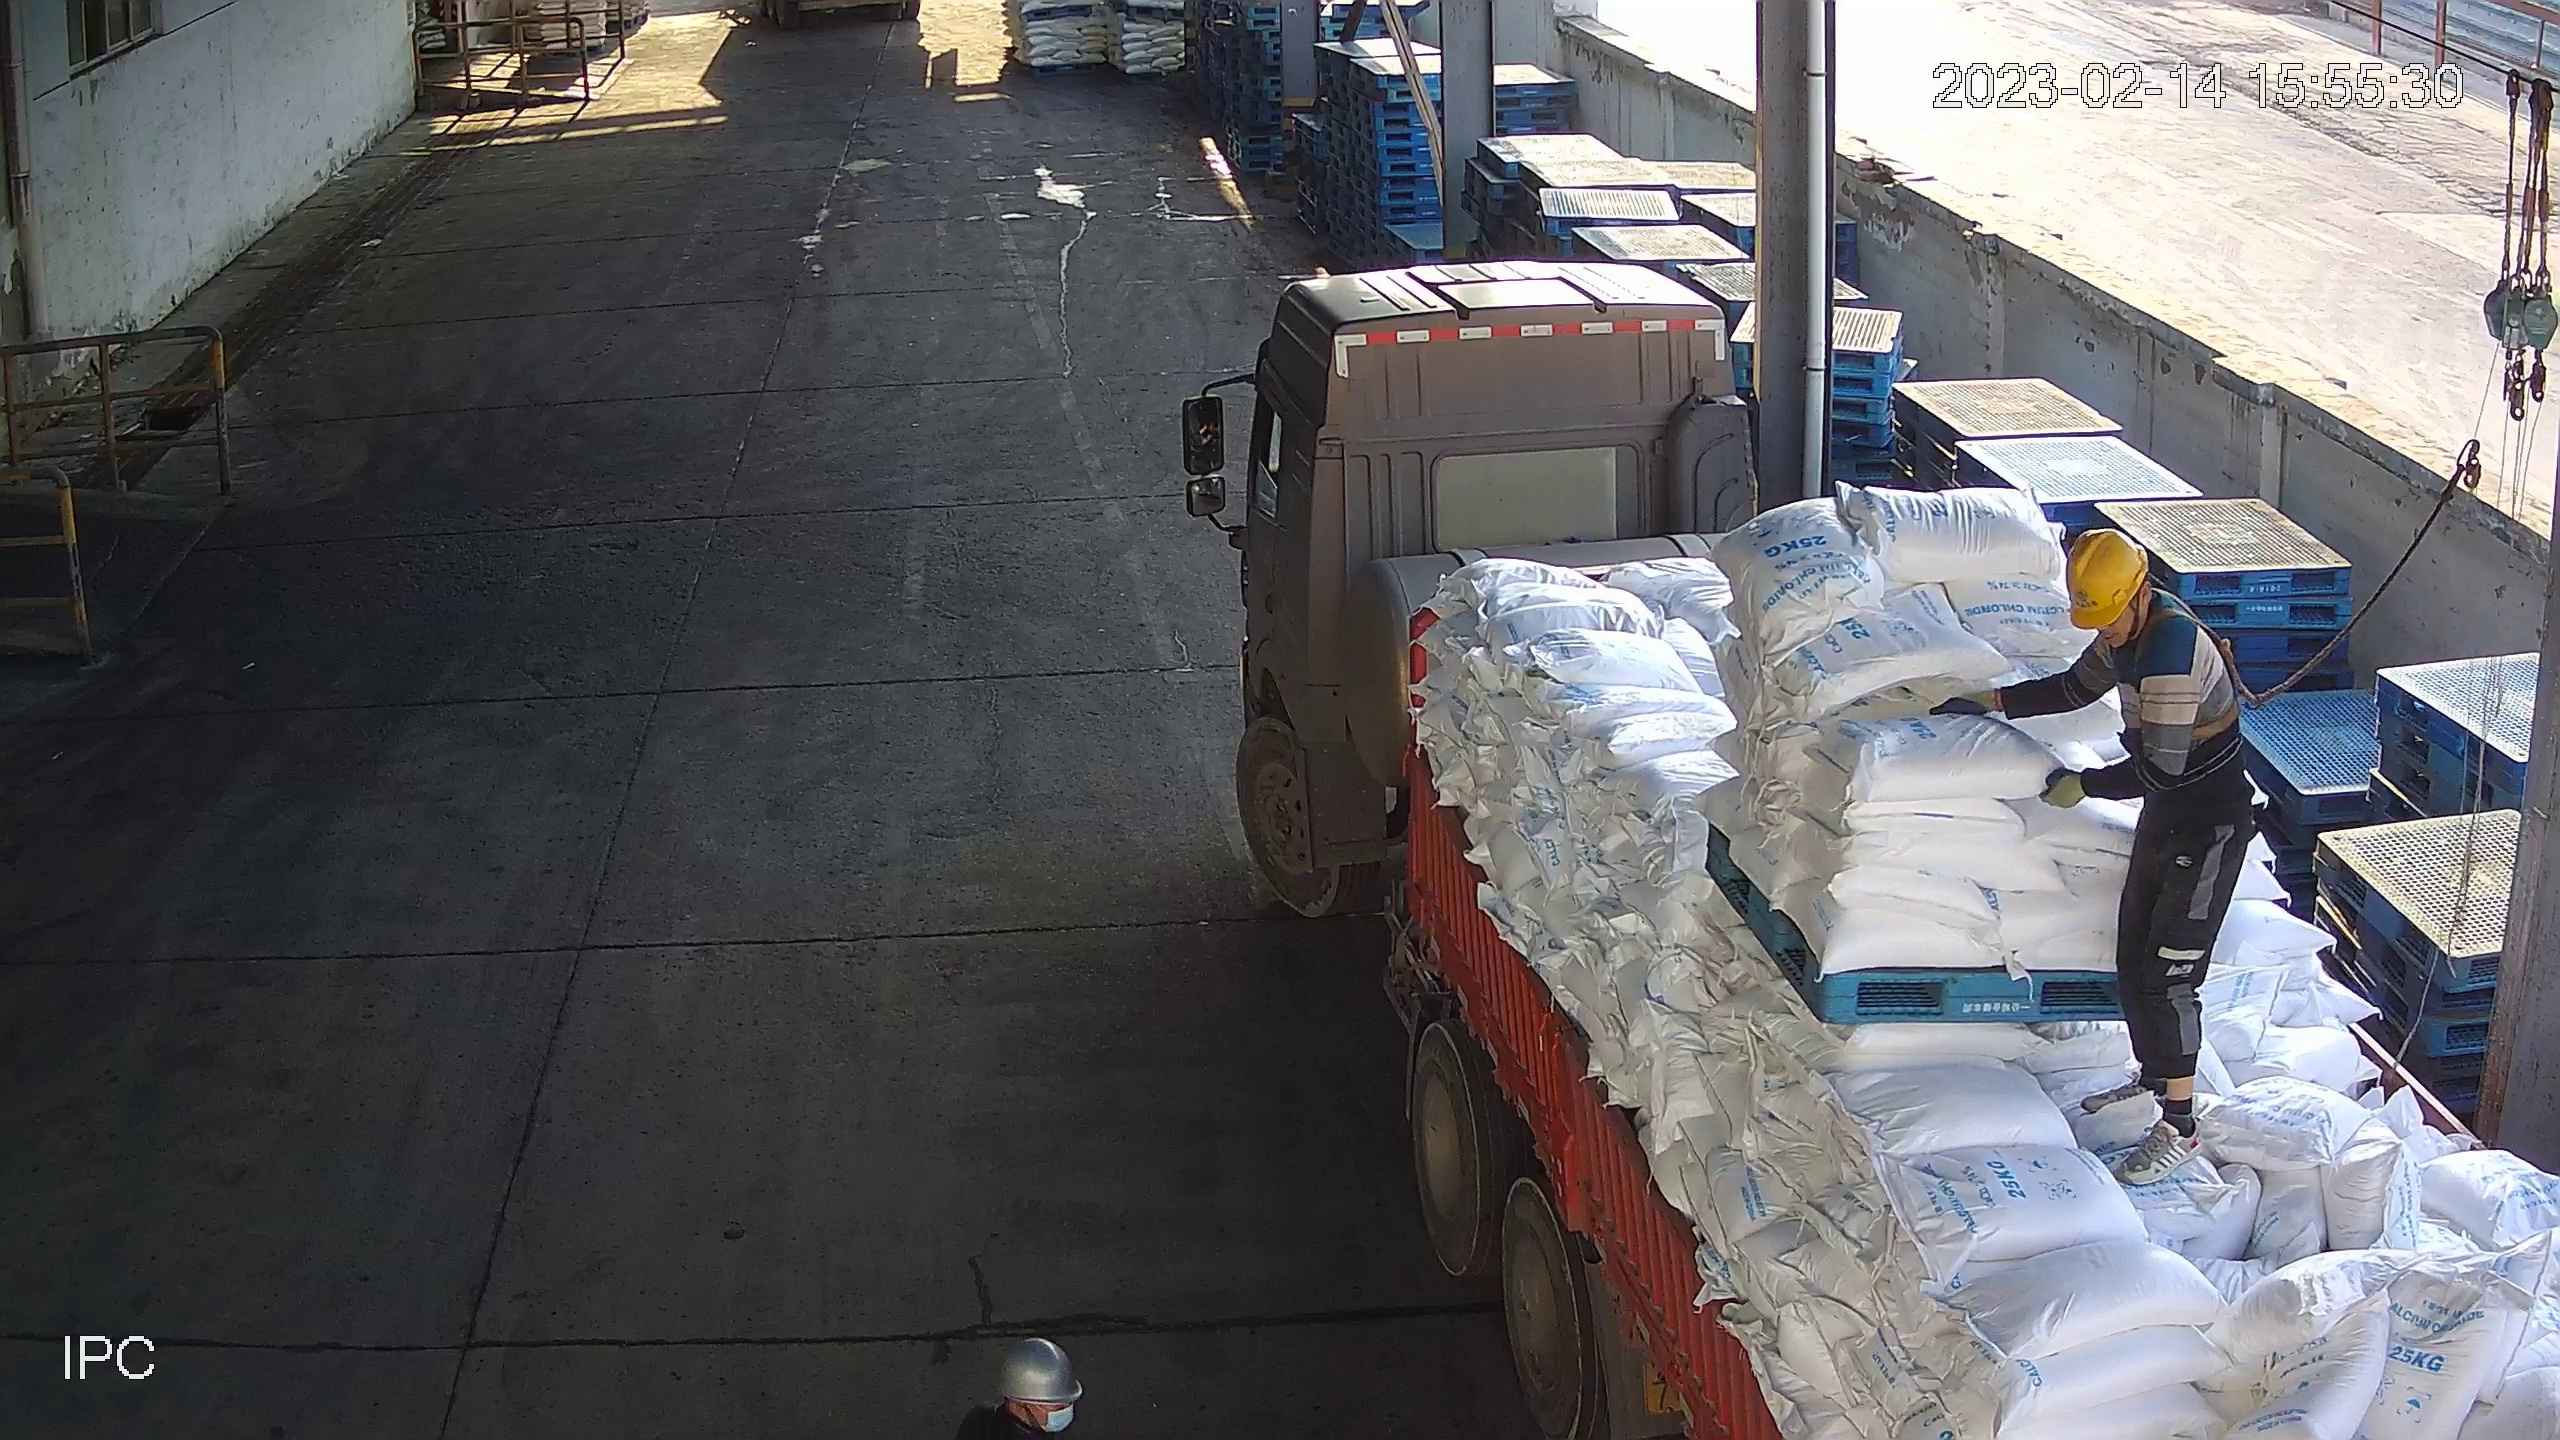belt: (2151, 613, 2276, 751)
head: (2060, 530, 2218, 692)
helmet: (2056, 525, 2155, 629), (993, 1330, 1090, 1401)
people: (1932, 529, 2262, 1188)
truck: (1174, 255, 2560, 1440)
